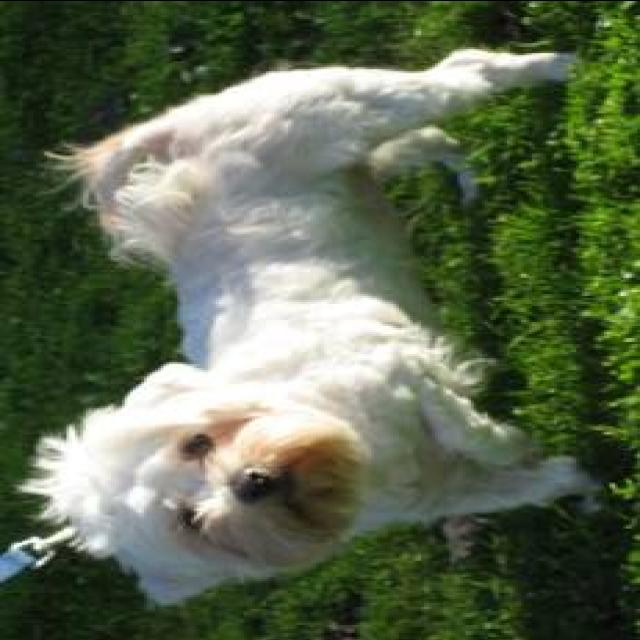dog: (22, 6, 610, 622)
